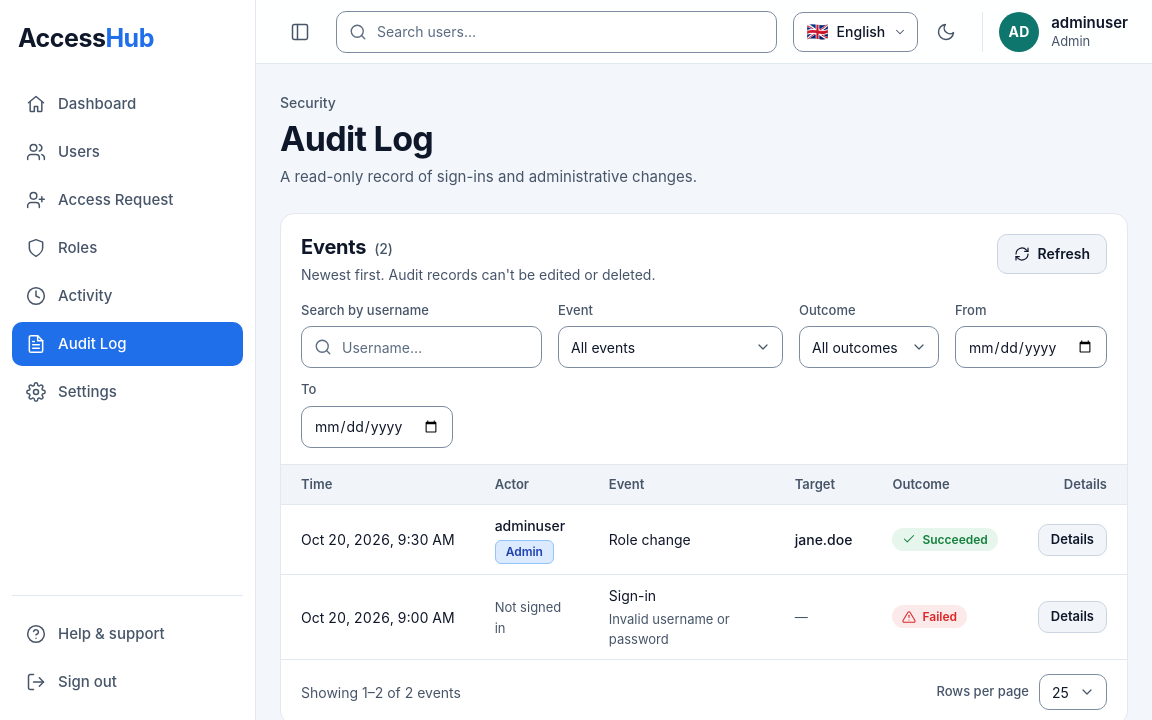
Scenario: Audit Log states › shows a no-matches state with a way to clear filters
The image size is (1152, 720).
Select "Denied" in the dropdown labelled "Outcome" at (869, 347), box [799,326,939,368]
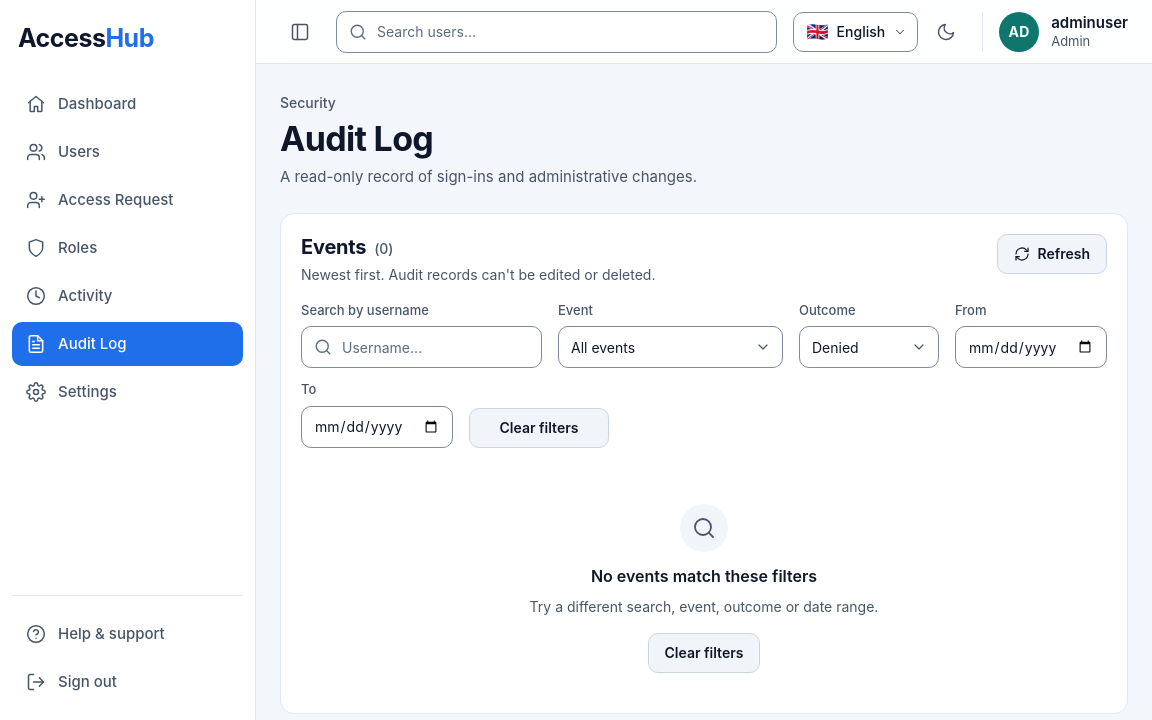
Now the text "No events match these filters" is shown, box [591,564,817,588]
Click the button "Clear filters" below "Search by username" at (539, 428), box [469,408,609,448]
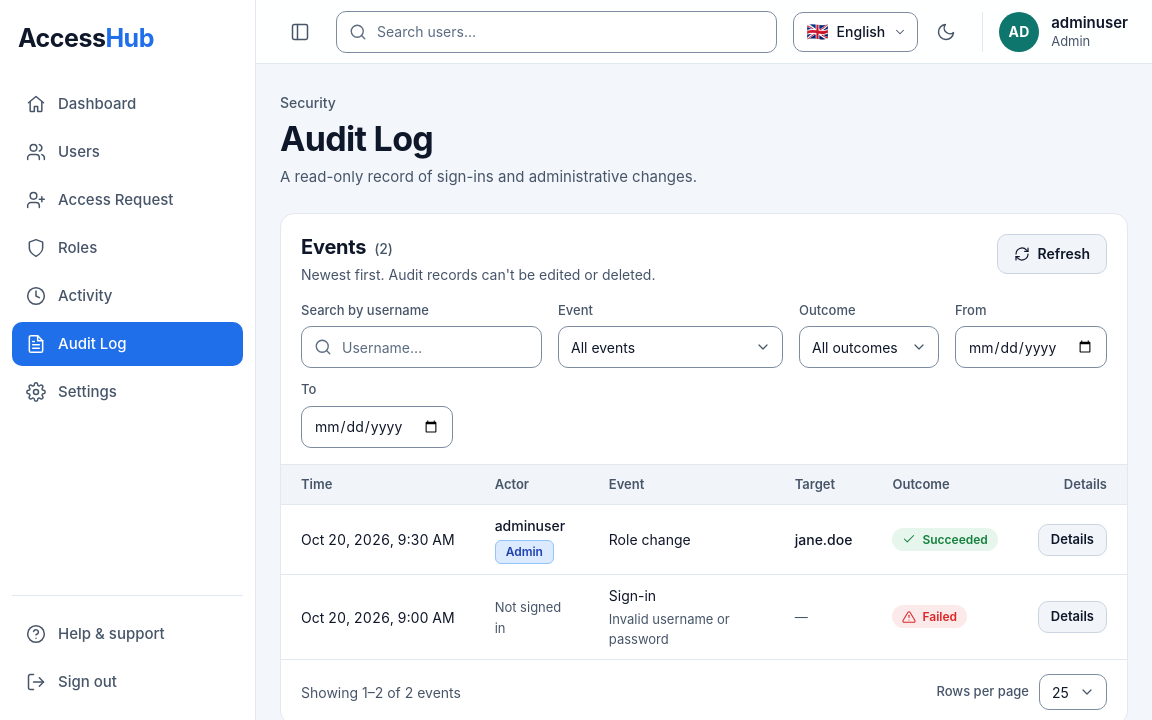
Now the text "Role change" is shown, box [609,531,691,548]
